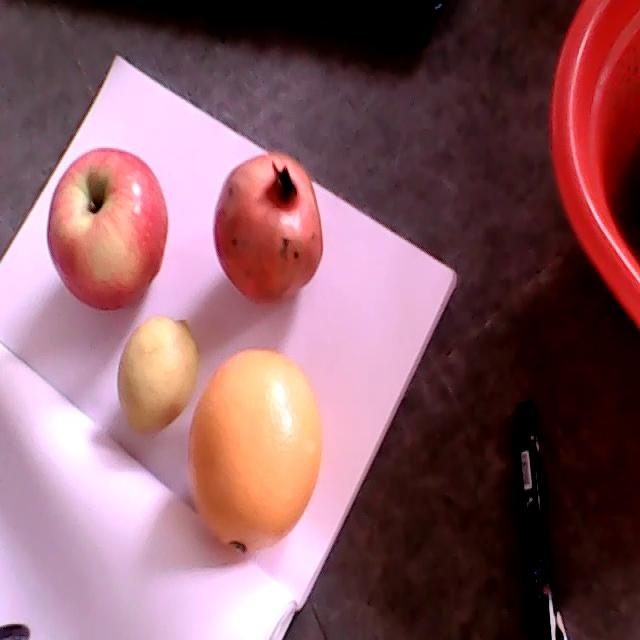apple: (47, 148, 169, 311)
lemon: (117, 315, 199, 433)
orange: (187, 347, 322, 558)
pomegranate: (213, 154, 323, 309)
